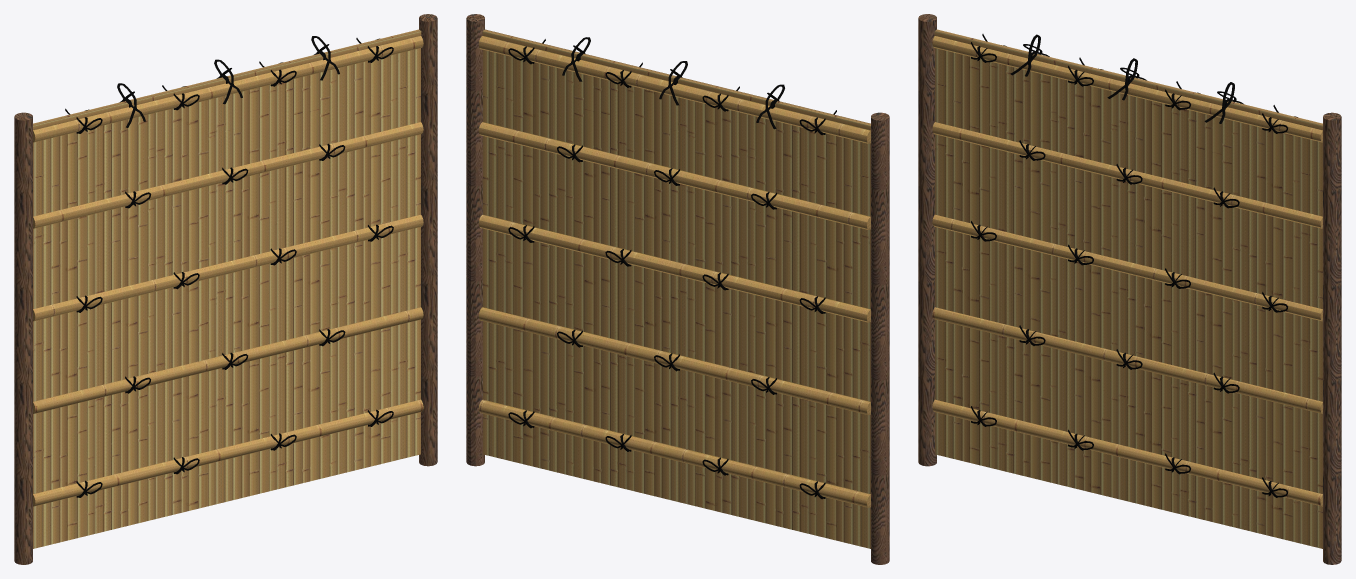
The model's file is e-banboo-kodawari-kenninji_h2000_om-gomatake.fbx.
3 views of the same model, side by side, from view 1: azimuth 30°, elevation 25°; view 2: azimuth 150°, elevation 25°; view 3: azimuth 330°, elevation 25° (orthographic).
Visible parts, largest first — view 1: e-banboo-kodawari-kenninji_h2000_om-gomatake; view 2: e-banboo-kodawari-kenninji_h2000_om-gomatake; view 3: e-banboo-kodawari-kenninji_h2000_om-gomatake.
Part boxes in pixels (left/top/right/bottom): e-banboo-kodawari-kenninji_h2000_om-gomatake: left=14, top=14, right=437, bottom=564; e-banboo-kodawari-kenninji_h2000_om-gomatake: left=466, top=14, right=889, bottom=564; e-banboo-kodawari-kenninji_h2000_om-gomatake: left=918, top=14, right=1341, bottom=564.
Size of the model in its own units: 208 by 211 by 21.44.
Materials: 4 (4 with a texture image).
